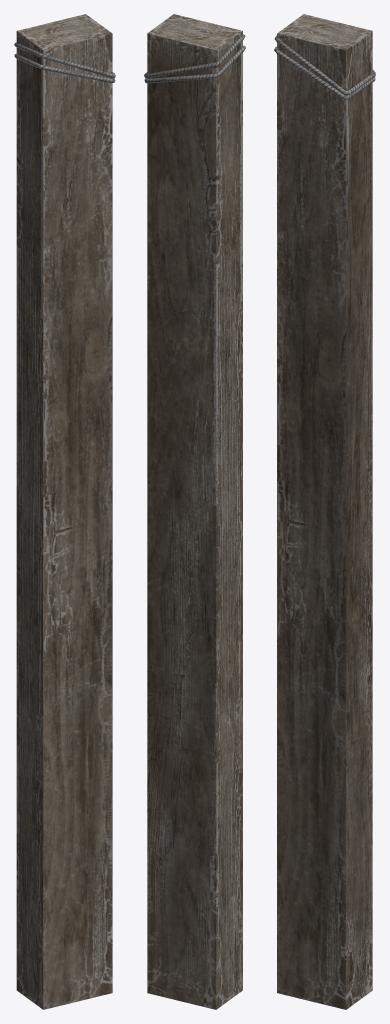
File: SM_WoodPlank01.FBX
3 views of the same model, side by side, from view 1: azimuth 30°, elevation 25°; view 2: azimuth 150°, elevation 25°; view 3: azimuth 330°, elevation 25° (orthographic).
Visible parts, largest first — view 1: SM_WoodPlank01; view 2: SM_WoodPlank01; view 3: SM_WoodPlank01.
Part boxes in pixels (box(x1,y1,x2,y2)): SM_WoodPlank01: box(14, 14, 115, 1009); SM_WoodPlank01: box(144, 14, 245, 1009); SM_WoodPlank01: box(274, 14, 375, 1009).
Bounding box in the file's own units: 41.6 × 28.69 × 500.
